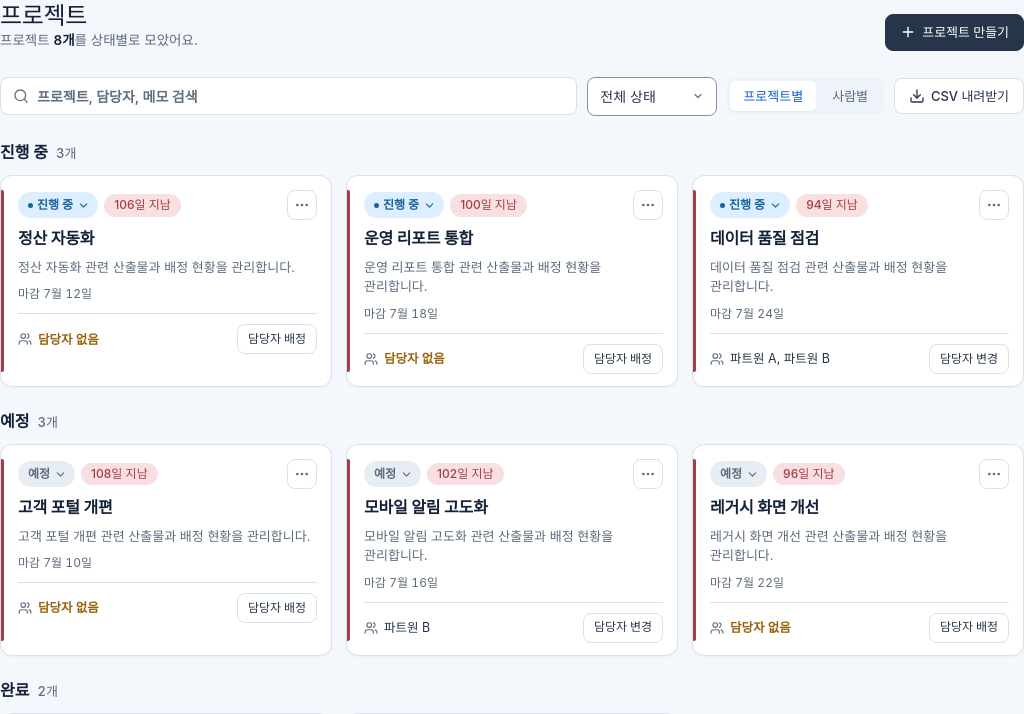
Test: ProjectsPanel › merges the board and the list: cards open the editor and never nest buttons
Click the button named "정산 자동화 수정".
click(166, 281)  # box top-left (1, 176), bottom-right (331, 386)
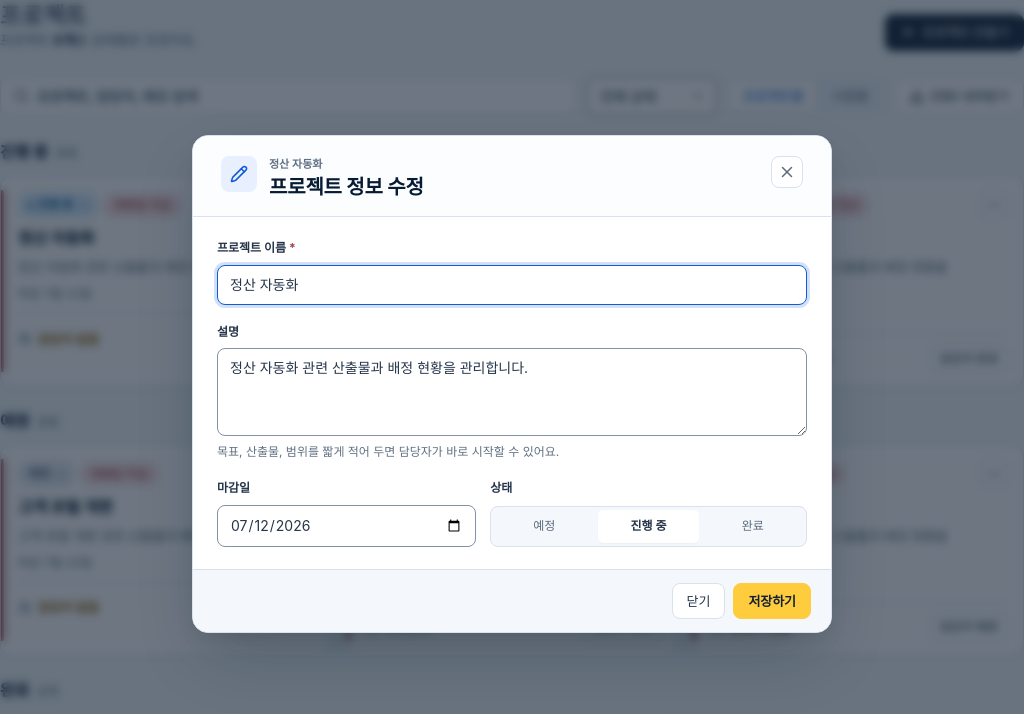
Replace the text in the field labelled "프로젝트 이름" with "정산 자동화 2차" at (512, 285), box top-left (217, 265), bottom-right (807, 305)
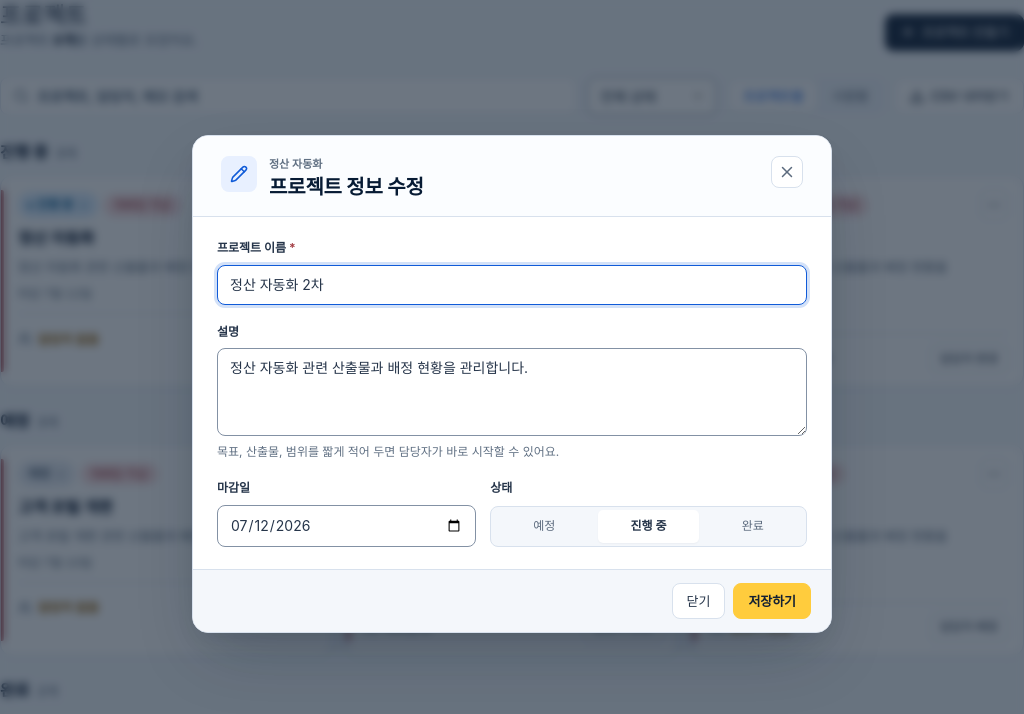
Click the button "저장하기".
click(772, 601)  # box top-left (733, 582), bottom-right (811, 619)
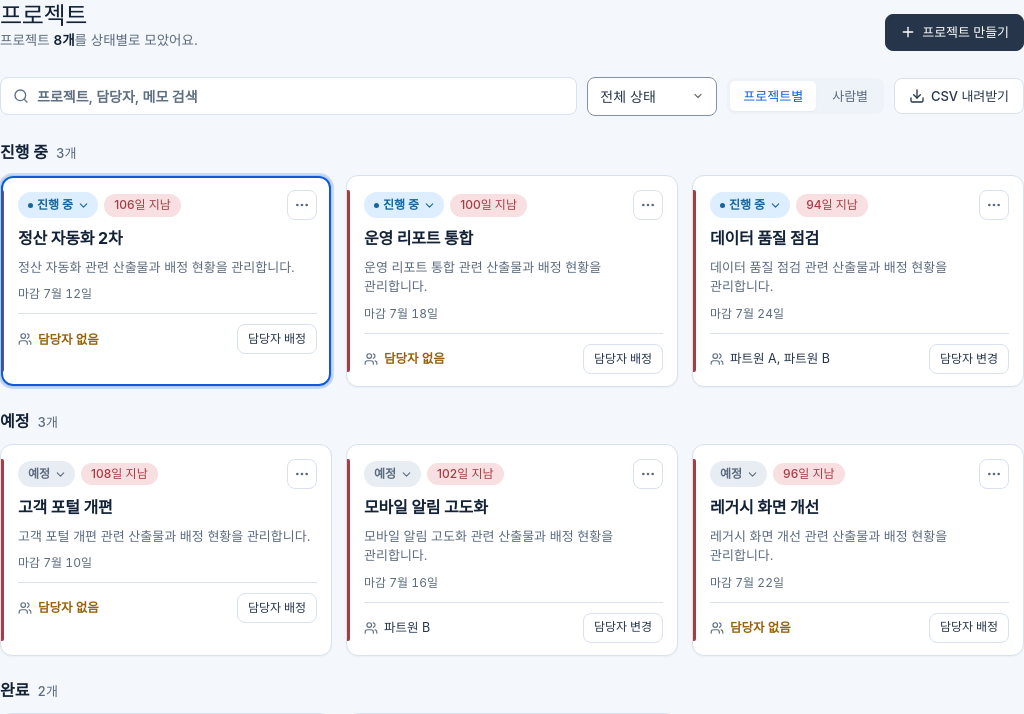
Expected: the heading "프로젝트 정보 수정" is gone
